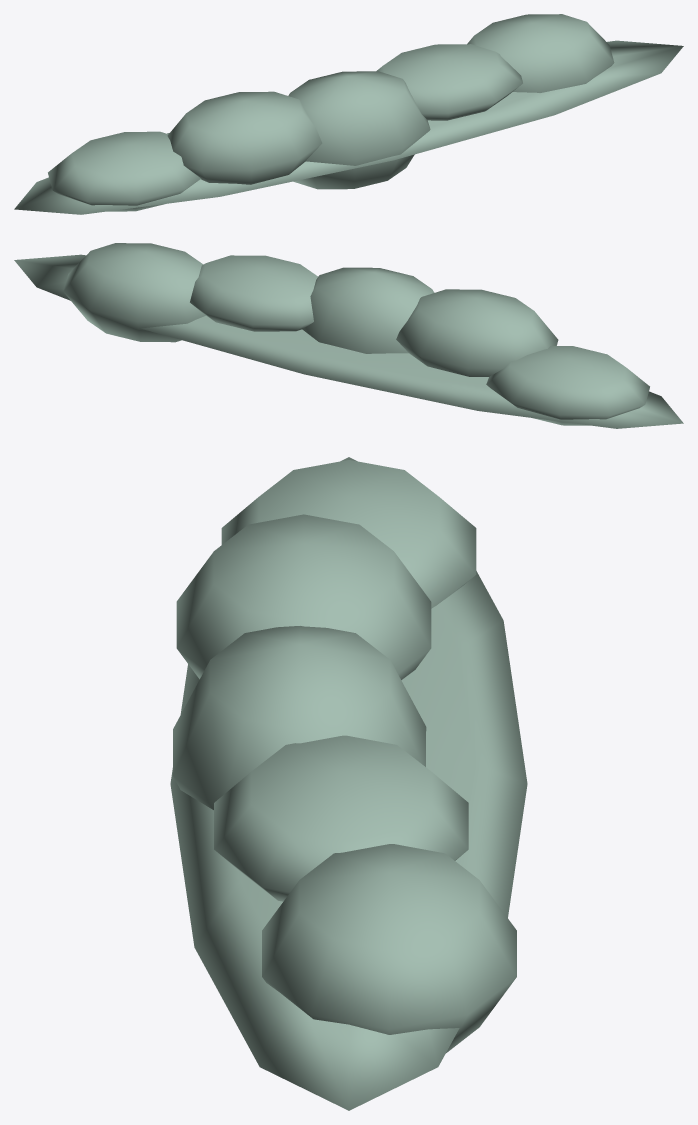
File: distant_coast_long.glb
3 views of the same model, one above another, from view 1: azimuth 30°, elevation 25°; view 2: azimuth 150°, elevation 25°; view 3: azimuth 270°, elevation 25° (orthographic). The views are drawn at different scales.
Size of the model in its own units: 52 by 8 by 12.
